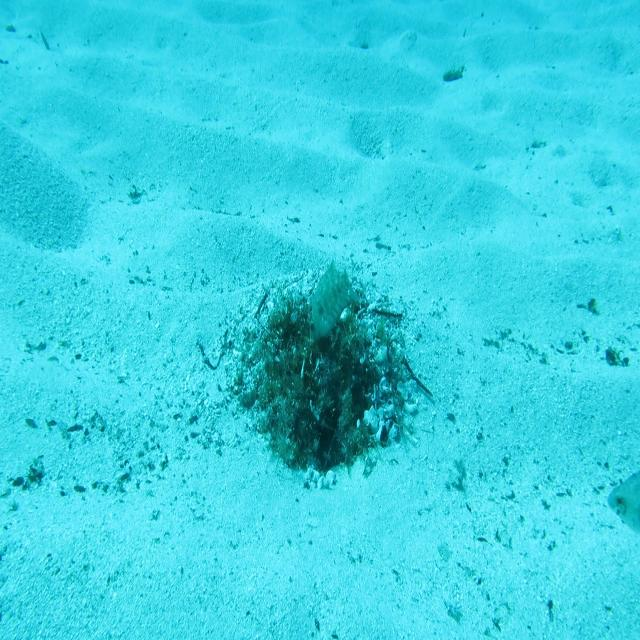INSF: (308, 248, 363, 343)
core_nest: (293, 316, 343, 371)
female: (606, 465, 640, 540)
nest: (216, 268, 425, 498)
vegetation: (441, 63, 466, 86)
